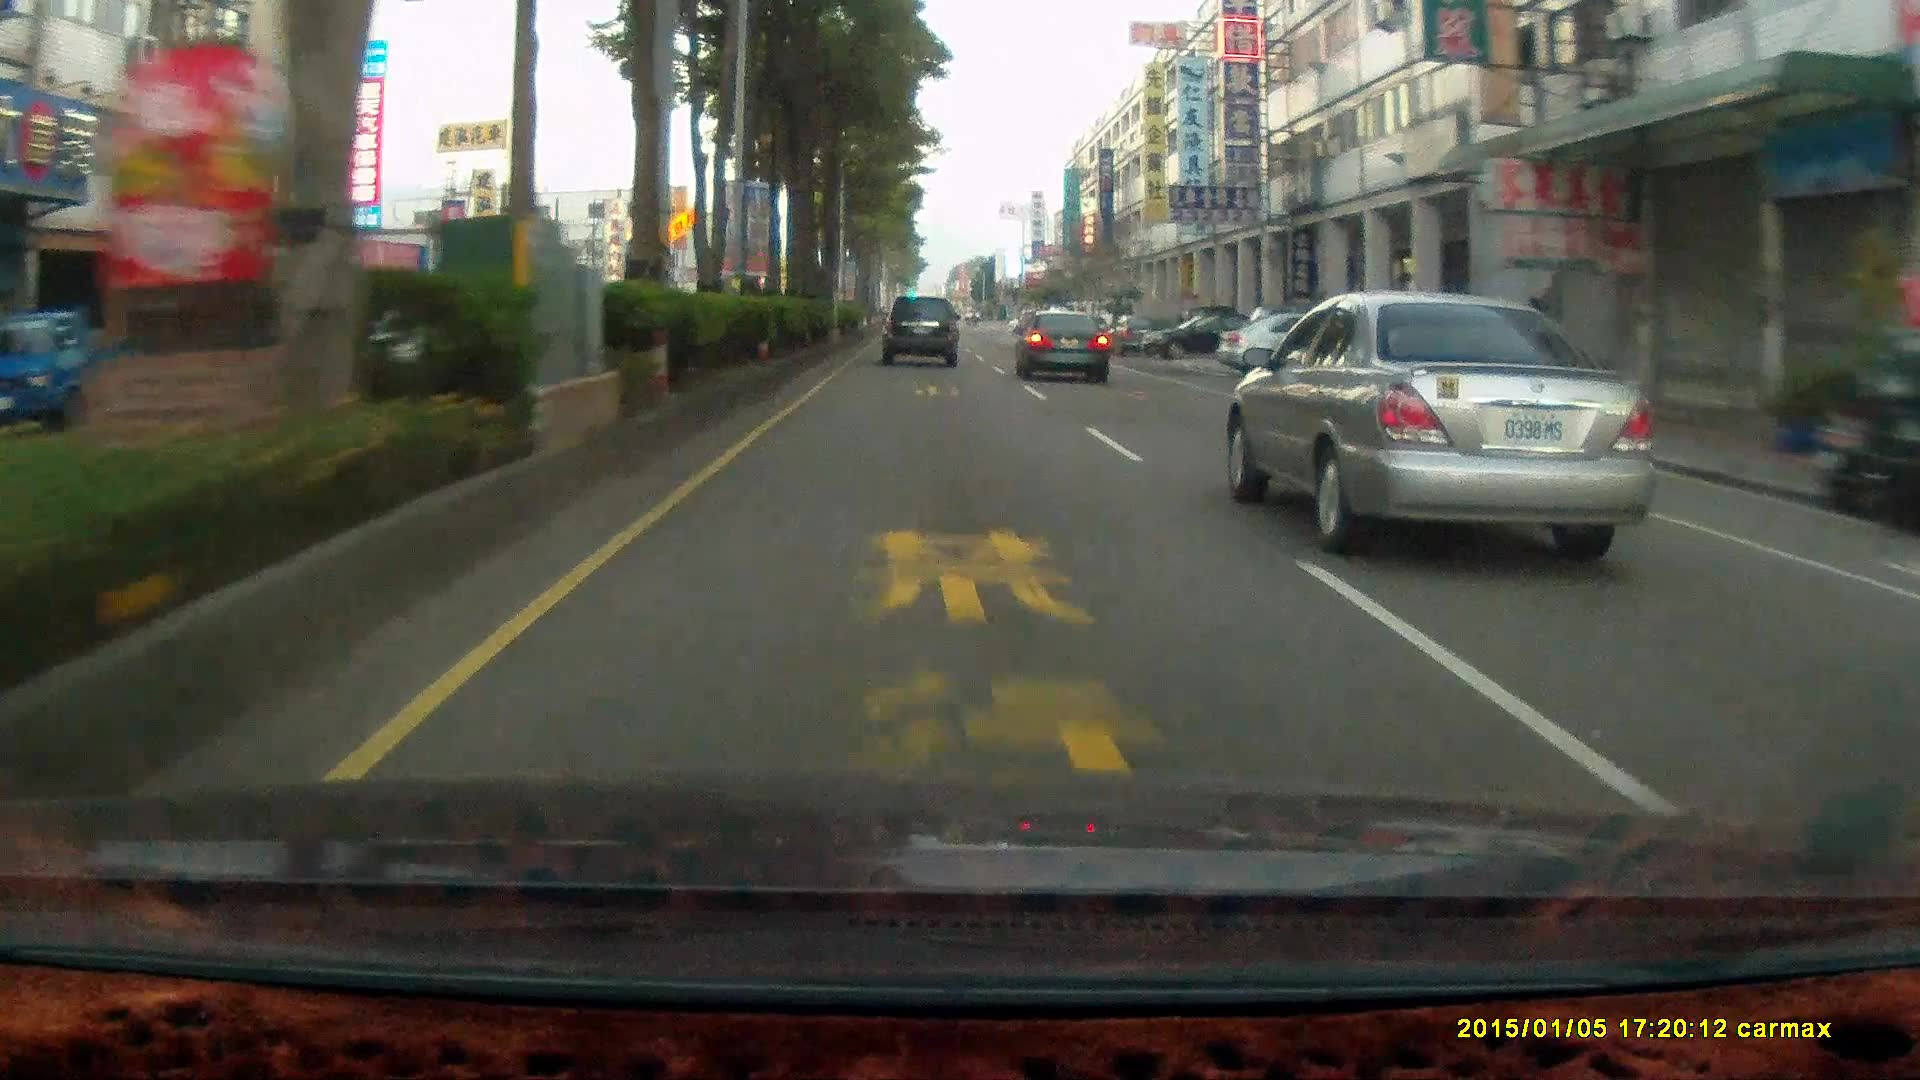vehicle: (1226, 286, 1679, 553), (1391, 315, 1575, 447), (1811, 310, 1920, 527), (0, 313, 173, 427), (11, 313, 136, 427), (1217, 307, 1398, 381), (1859, 316, 1920, 535), (1013, 307, 1112, 382), (1015, 309, 1113, 380), (1137, 309, 1266, 357), (880, 293, 963, 368), (880, 293, 960, 365), (1104, 313, 1156, 352)
